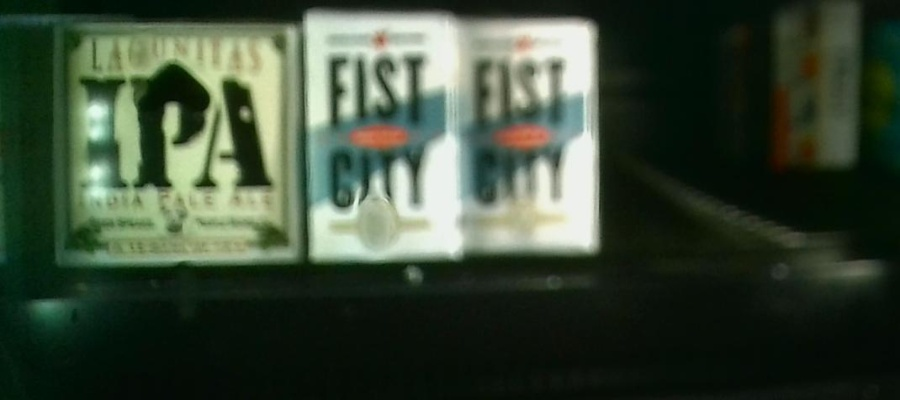bottle: (53, 20, 304, 264), (304, 12, 463, 261), (466, 11, 598, 251)
